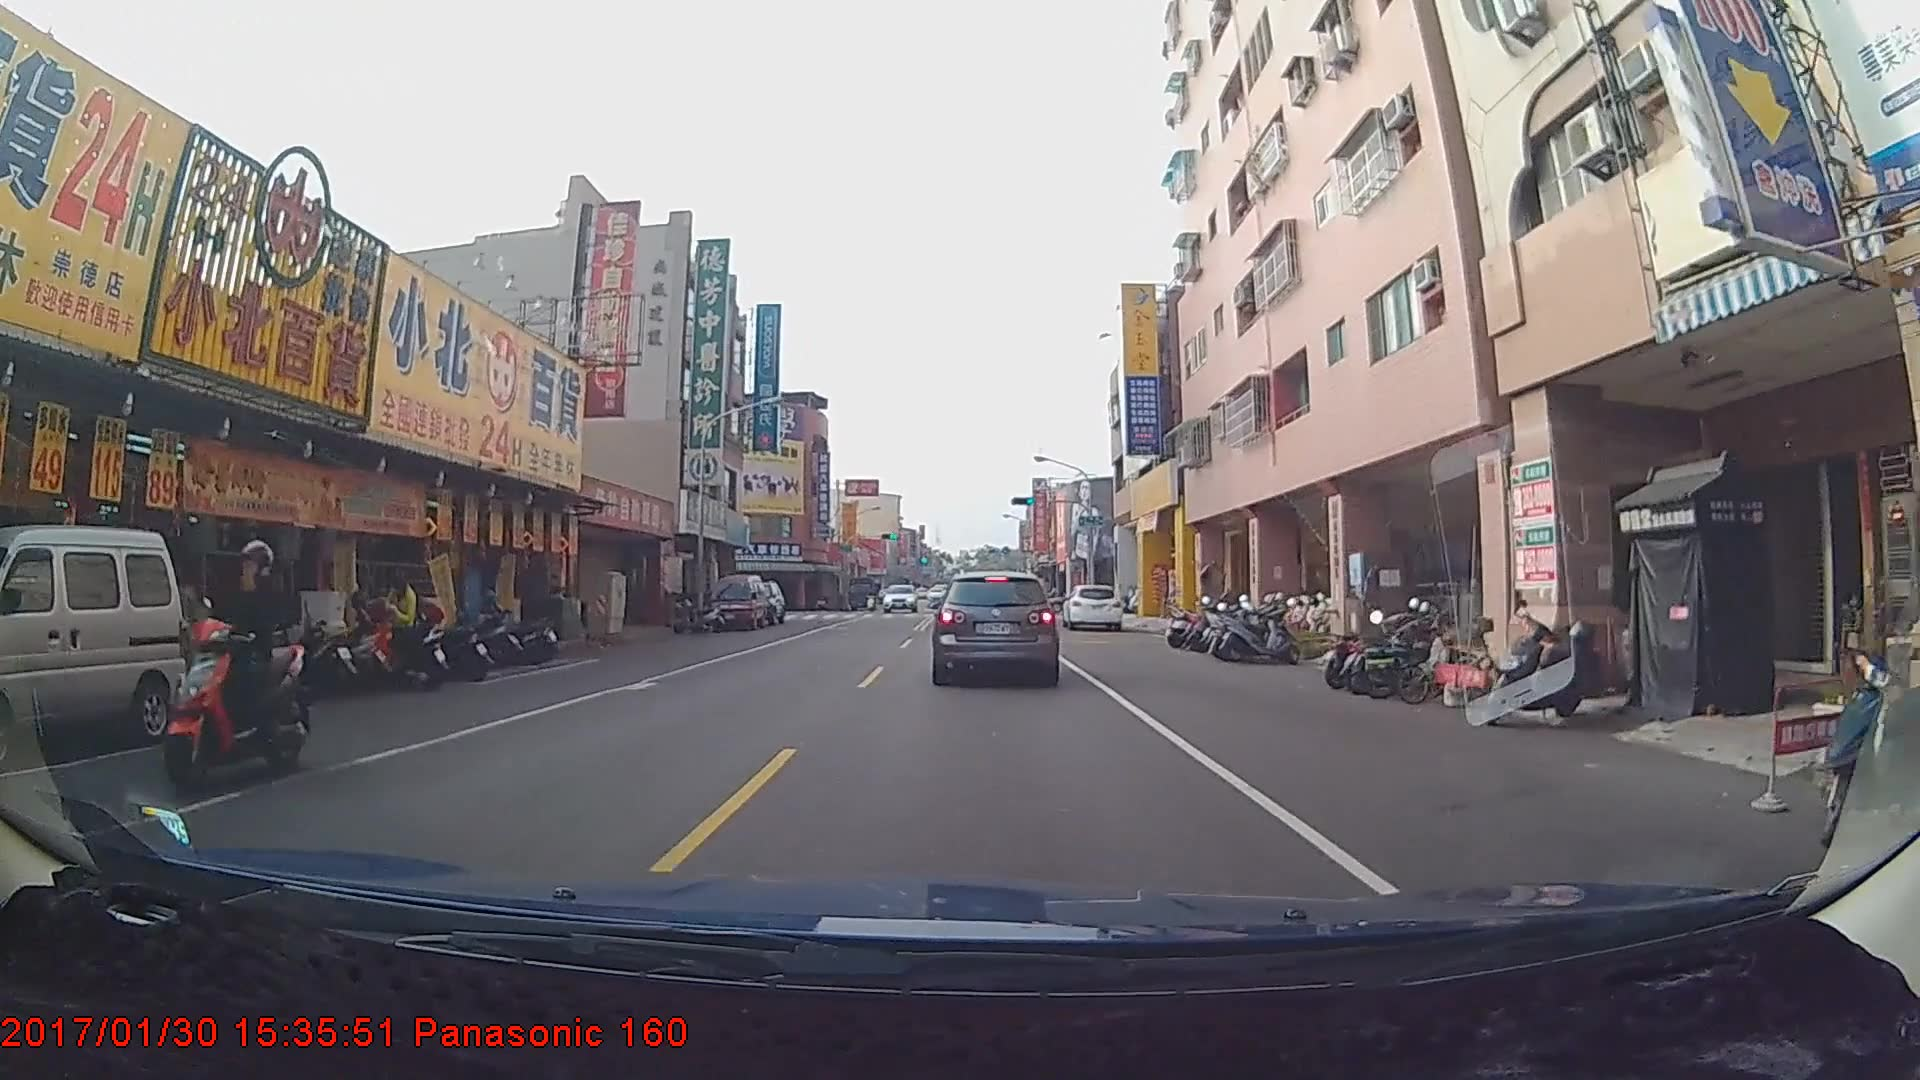pedestrian: (376, 570, 419, 674)
rider: (133, 537, 308, 801)
vehicle: (0, 520, 182, 756), (932, 570, 1058, 684), (707, 572, 768, 630), (1061, 584, 1123, 632), (879, 579, 919, 615)
